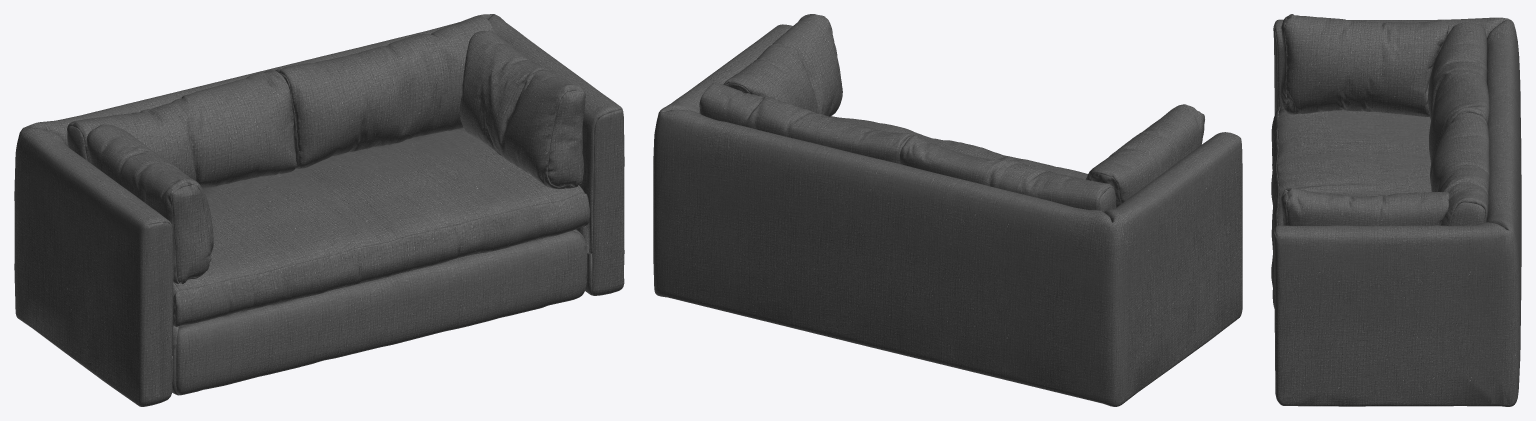
File: hackney-sofa-runtime-lite.glb
3 renders of one model, left to right at view 1: azimuth 30°, elevation 25°; view 2: azimuth 150°, elevation 25°; view 3: azimuth 270°, elevation 25°, orthographic. The views are drawn at different scales.
Visible parts, largest first — view 1: Hackney Sofa; view 2: Hackney Sofa; view 3: Hackney Sofa.
Part boxes in pixels (x1,y1,x2,y2): Hackney Sofa: (14, 14, 624, 406); Hackney Sofa: (653, 14, 1242, 406); Hackney Sofa: (1271, 14, 1521, 406).
Size of the model in its own units: 2.04 by 0.8673 by 0.9842.
Materials: 2 (1 with a texture image).
